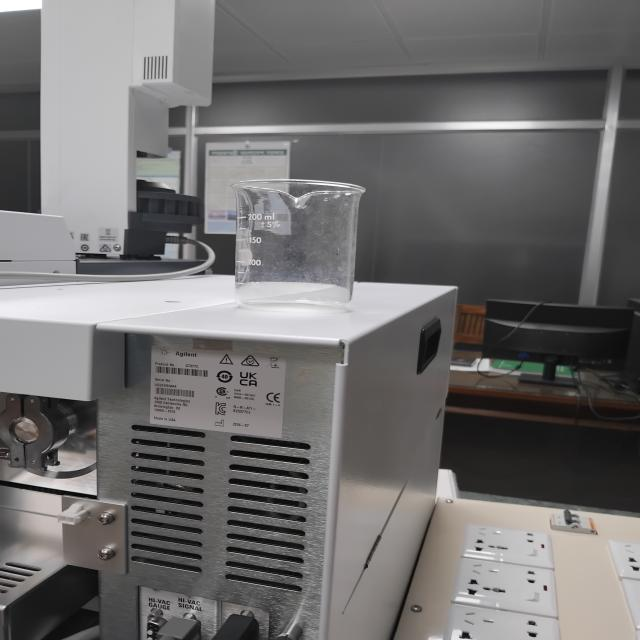Beaker: (176, 125, 380, 324)
